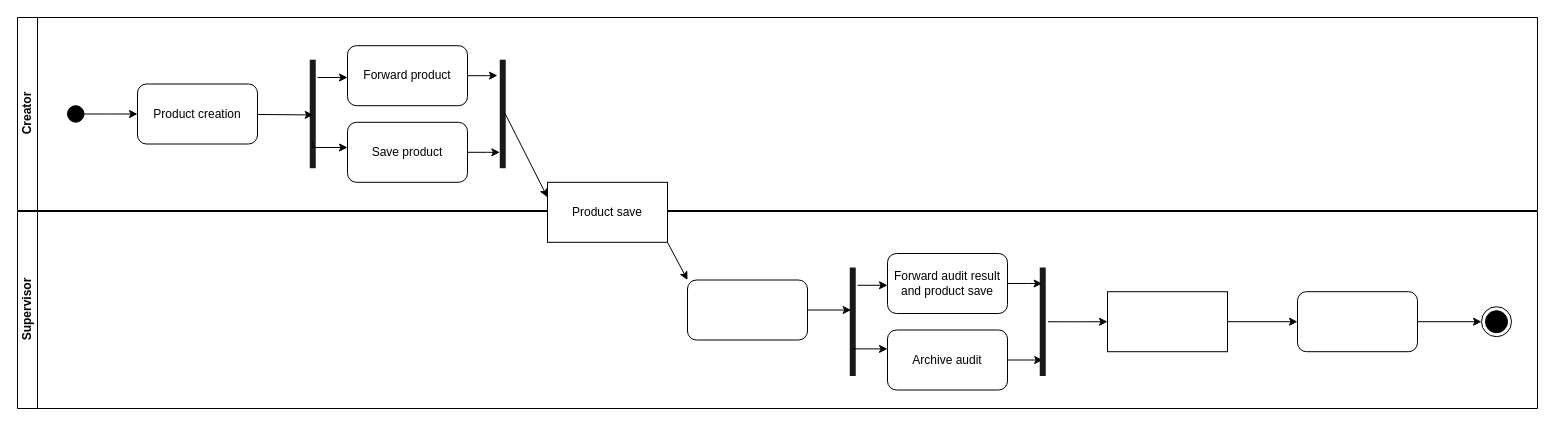
Some shapes in this 1555 by 426 pixel diagram are drawn without their labels. Here are the shapes that lost their labels. From the top down, the centre of each, then its label:
At point (747, 309): "Audit product save".
At point (1167, 321): "Audit archive".
At point (1357, 321): "Close creation project".
